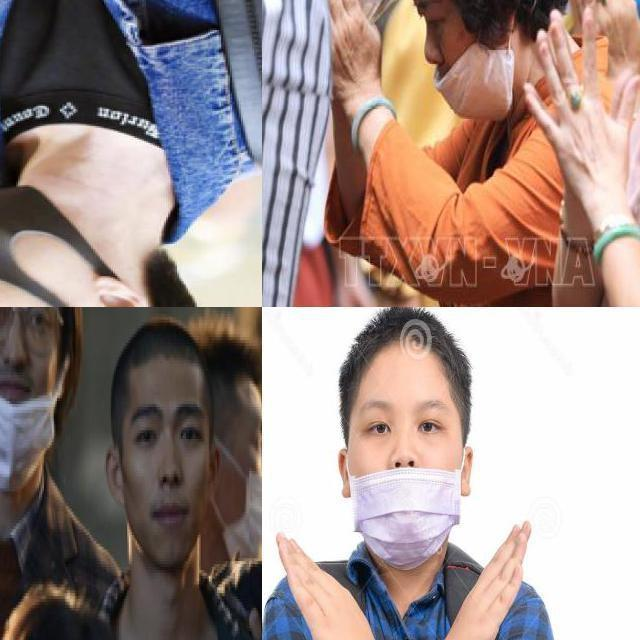hairnet: (361, 439, 455, 566), (416, 29, 516, 123), (0, 346, 55, 478)
no_hairnet: (120, 442, 216, 576)
